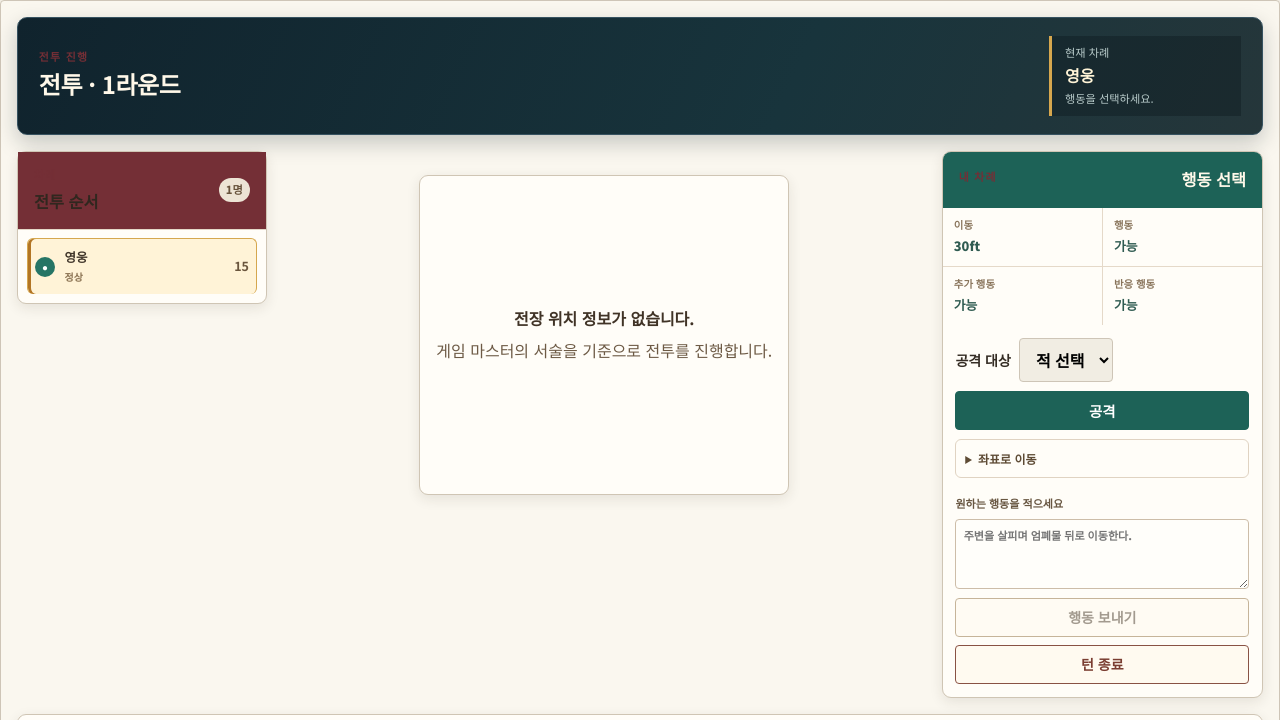
Scenario: CombatScreen › does not render narration directly from an action response
This screenshot has width=1280, height=720.
In the text box named "행동 선언": (1102, 554) [955,518,1249,589], type "throw ham at the goblin"
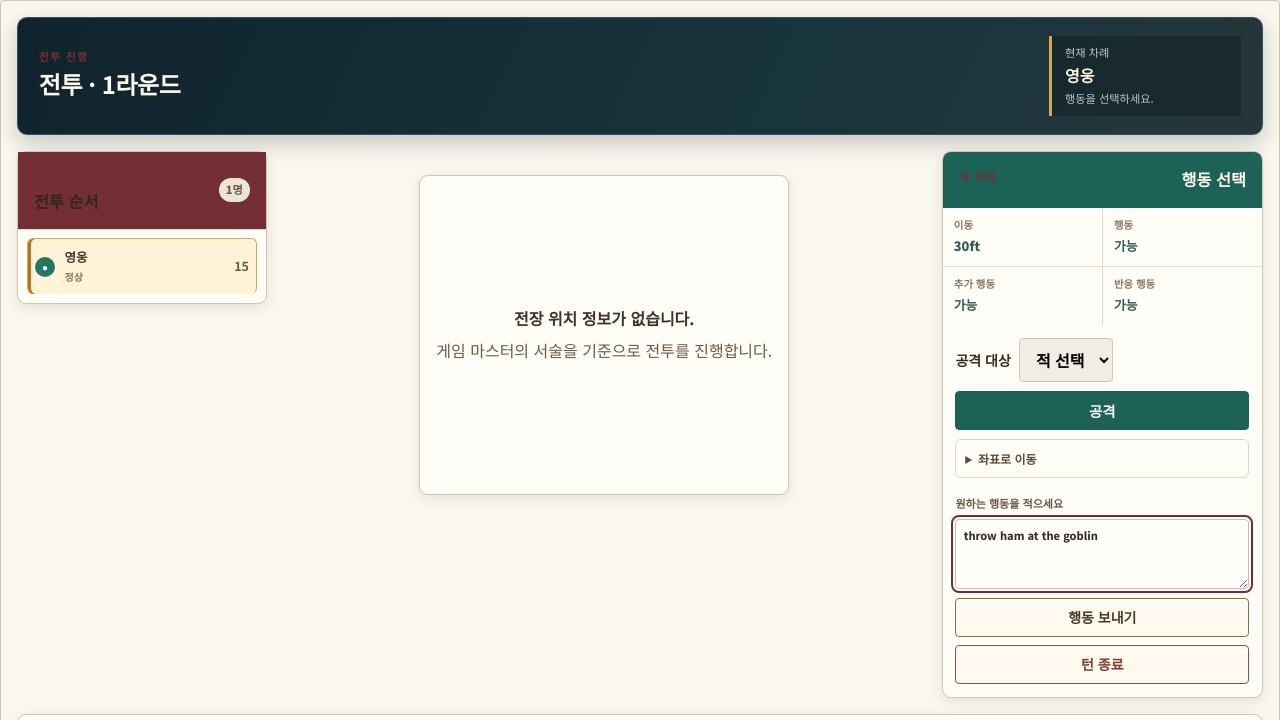
Click the button "행동 보내기": click(1102, 617) [955,598,1249,636]
(page scrolled)
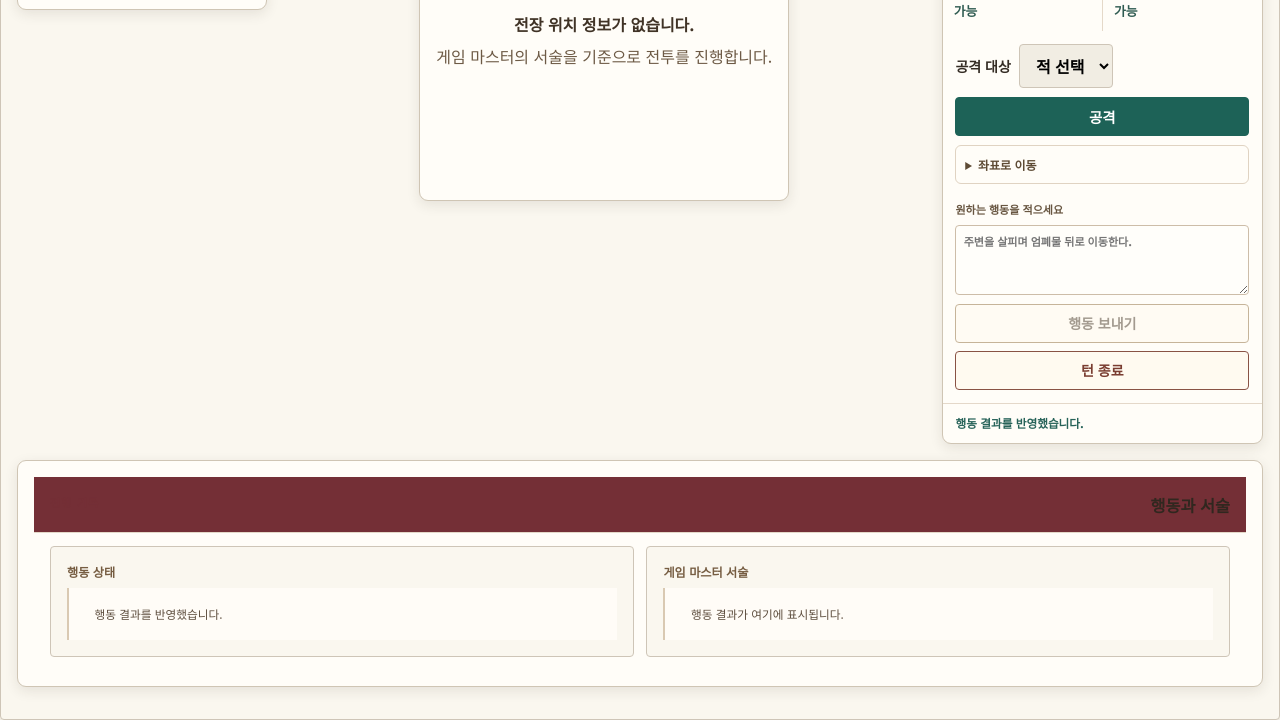
Expected: the heading "행동 상태" is shown, [67,563,115,581]
Result: the list named "행동 상태" reads "행동 결과를 반영했습니다." at [95,605,222,622]
